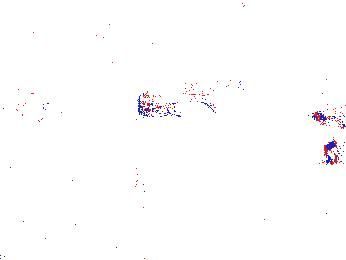X-ray fish: (28, 13, 51, 63), (129, 166, 149, 209)
red belly glassfish: (298, 139, 317, 155), (324, 146, 342, 161)
redtail glassfish: (167, 70, 254, 97), (139, 92, 223, 118), (17, 93, 58, 125), (308, 105, 346, 128)
